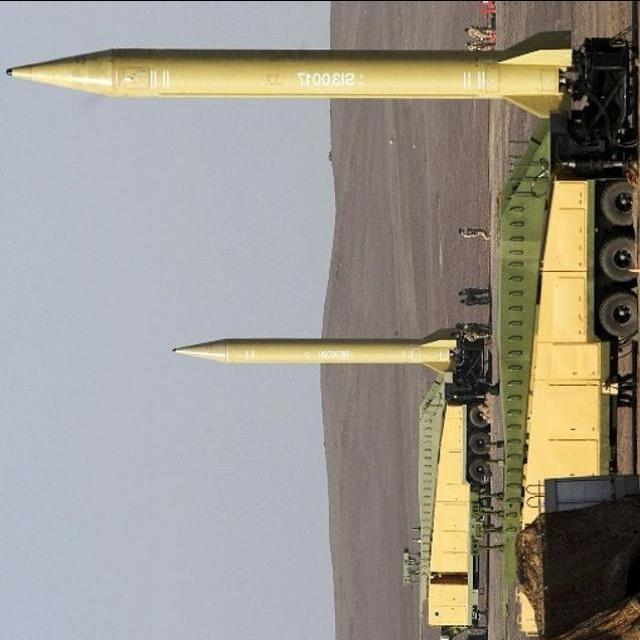missile: (2, 24, 570, 116), (173, 328, 456, 387)
